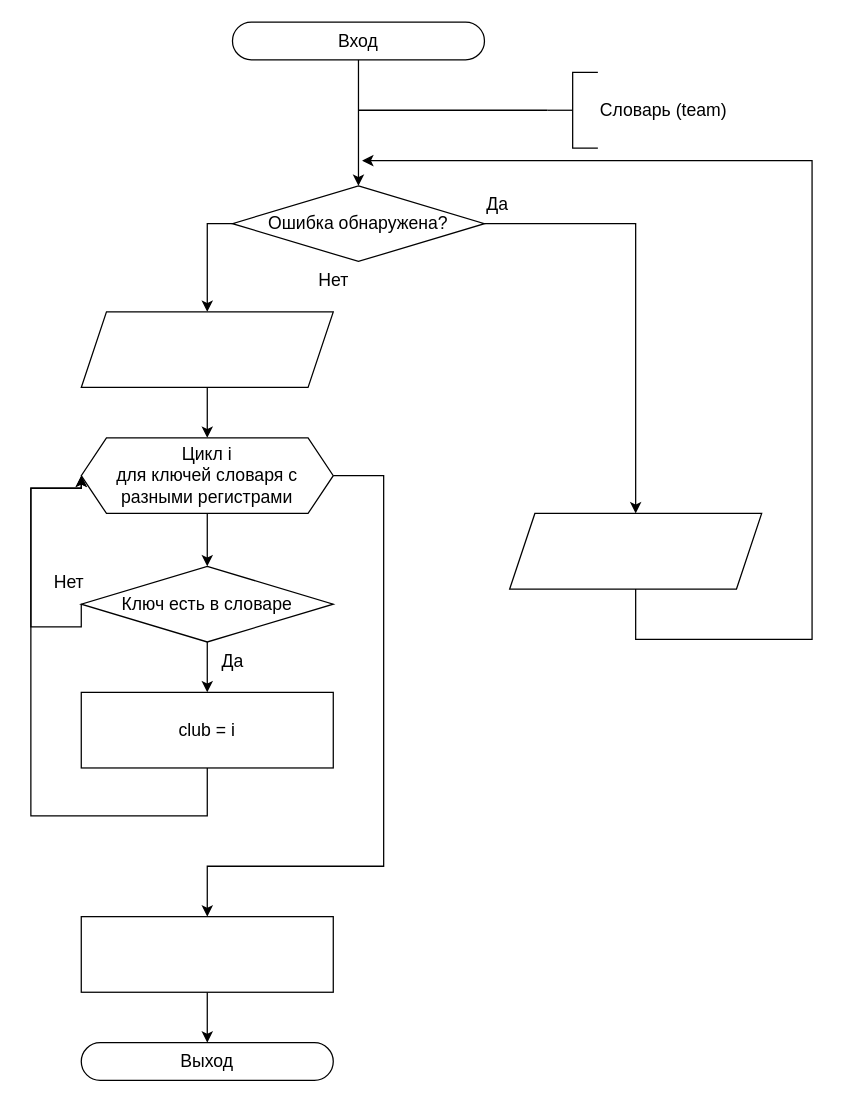
Some shapes in this 844 by 1103 pixel diagram are drawn without their labels. The box of each missing label's shape, as (x1, y1, x2, y2) in pixels:
Ввод названия команды: (80, 311, 333, 387)
Вывод: Введено неверное значение: (508, 512, 762, 589)
Удаление из словаря введеной команды club: (80, 915, 333, 992)
